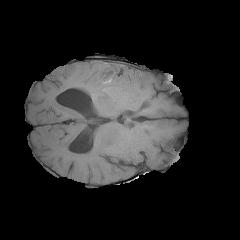glioma: (66, 62, 149, 100)
